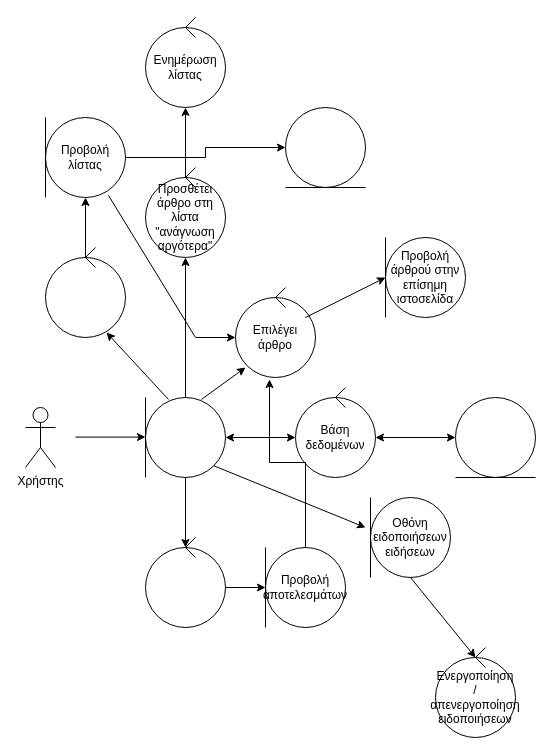
This 554x755 diagram has some shape labels left out. The shapes that lost their labels are listed below. From the top down, each one's centre as x and y in pixels, then its label:
[325,147]: Λίστα άρθρων "Ανάγνωση αρότερα"
[85,297]: Επιλογή προβολής λίστας "ανάγνωση αργότερα"
[185,437]: Οθόνη νέων πανδημίας από τρίτους φορείς
[495,437]: Προτεινόμενα άρθρα
[185,587]: Άναζήτηση άρθρού
